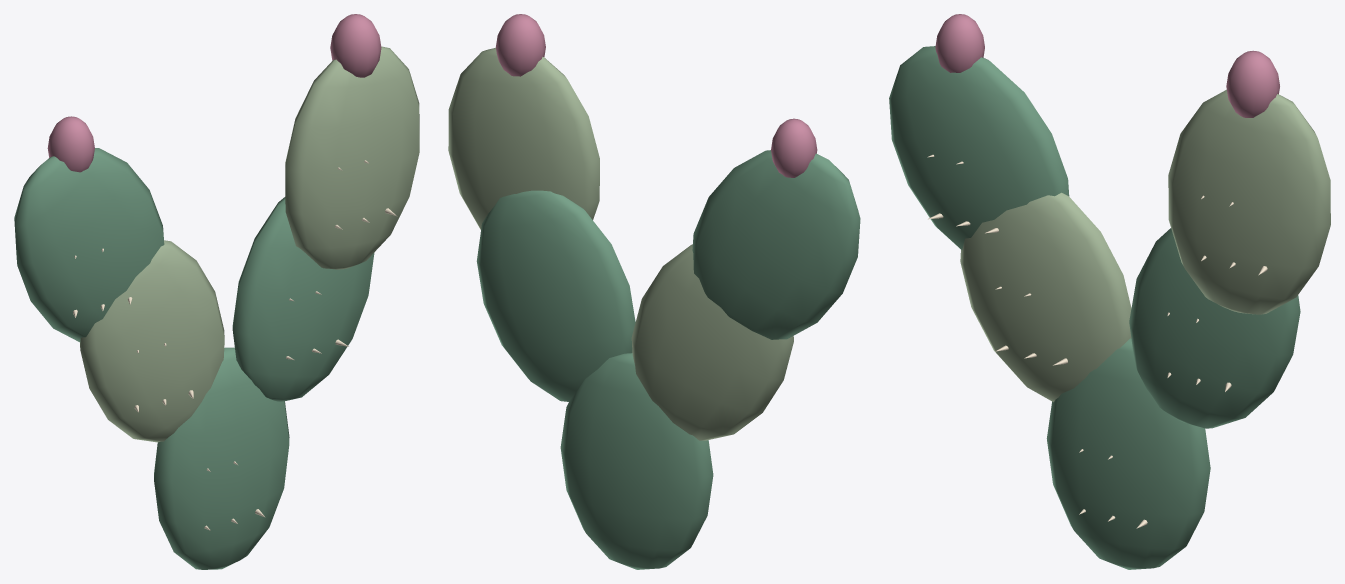
Rendered from prickly-pear.glb.
The picture shows the model from 3 angles, left to right: view 1: azimuth 30°, elevation 25°; view 2: azimuth 150°, elevation 25°; view 3: azimuth 330°, elevation 25°; orthographic projection. The views are drawn at different scales.
Visible parts, largest first — view 1: Vesper / prickly-pear; view 2: Vesper / prickly-pear; view 3: Vesper / prickly-pear.
Boxes of the visible parts, x1,y1,x2,y2 form: Vesper / prickly-pear: [14, 14, 419, 569]; Vesper / prickly-pear: [448, 14, 860, 569]; Vesper / prickly-pear: [889, 14, 1330, 569].
Size of the model in its own units: 2.42 by 2.96 by 0.4218.
